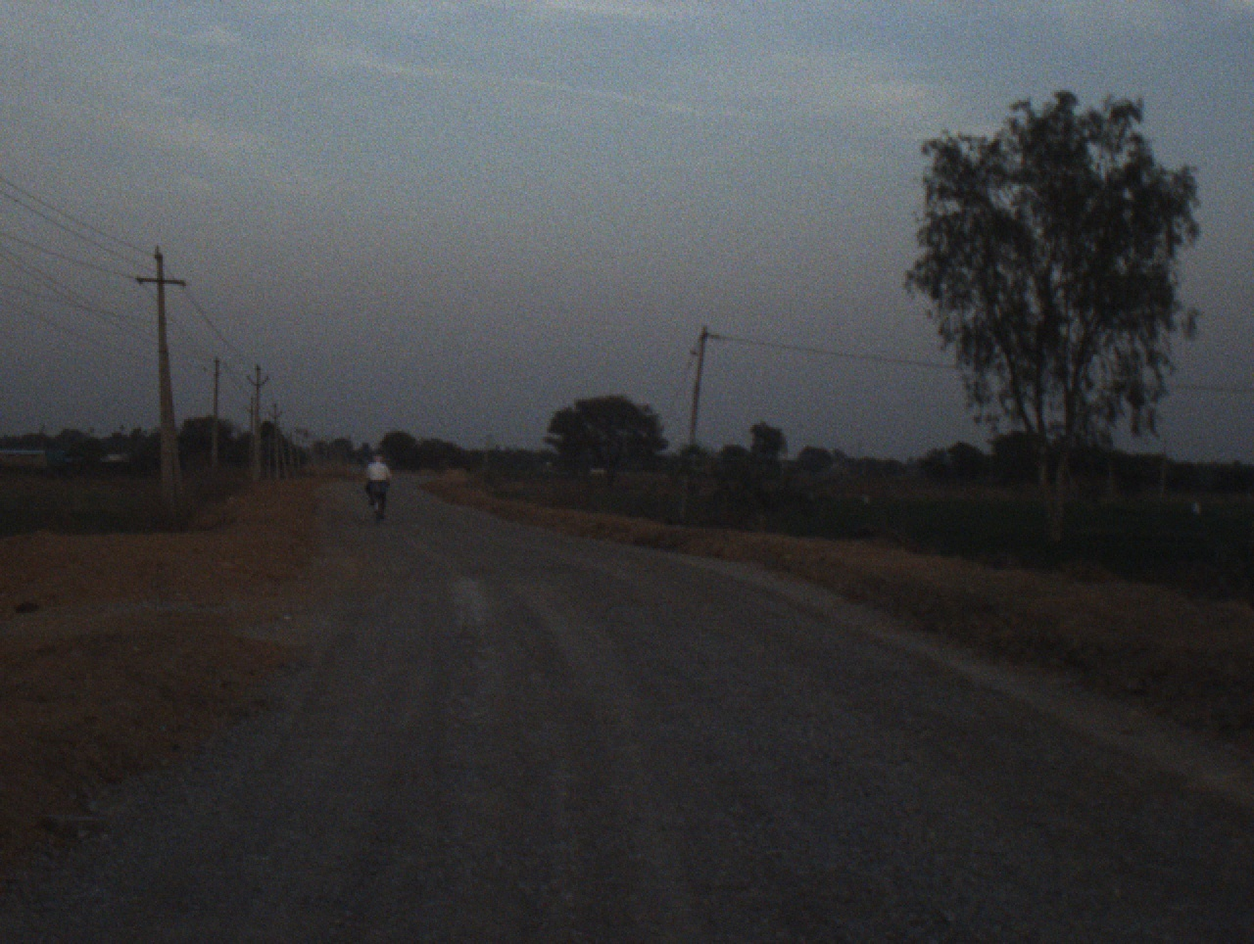bicycle: (364, 481, 388, 526)
rider: (364, 452, 394, 513)
